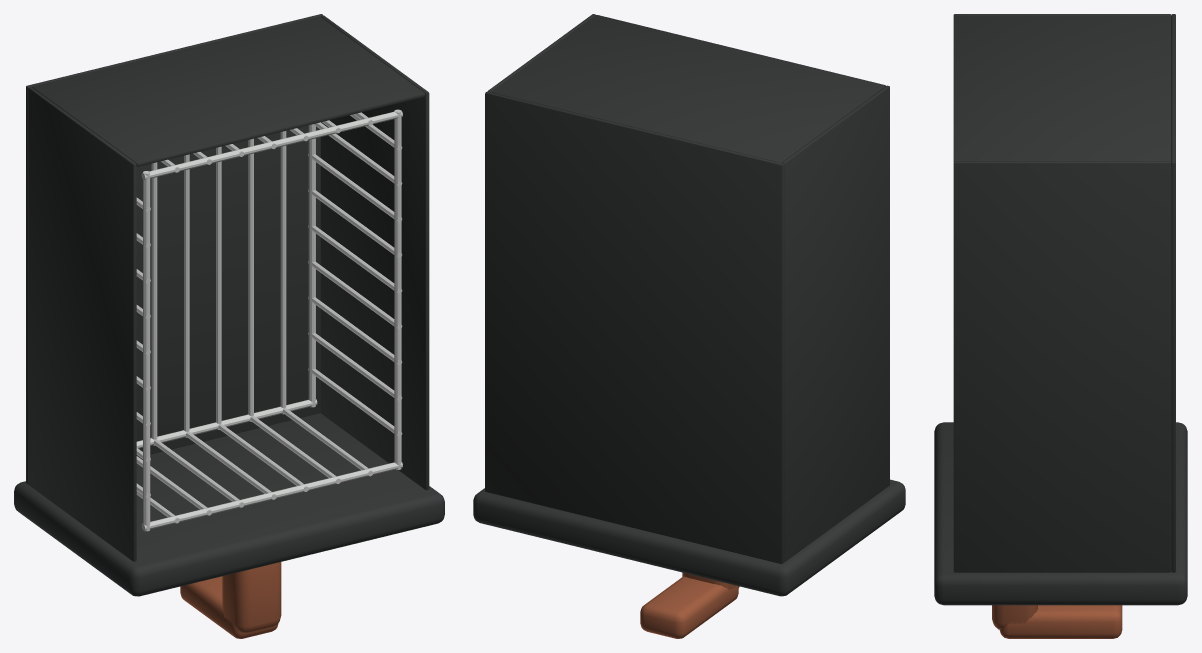
Rendered from air_fryer_basket_drawer.glb.
The picture shows the model from 3 angles, left to right: view 1: azimuth 30°, elevation 25°; view 2: azimuth 150°, elevation 25°; view 3: azimuth 270°, elevation 25°; orthographic projection. The views are drawn at different scales.
Parts seen in each view (by area): view 1: air_fryer_basket_drawer_x; view 2: air_fryer_basket_drawer_x; view 3: air_fryer_basket_drawer_x.
Part boxes in pixels (bbox=[...]): air_fryer_basket_drawer_x: bbox=[14, 14, 444, 638]; air_fryer_basket_drawer_x: bbox=[473, 14, 905, 638]; air_fryer_basket_drawer_x: bbox=[934, 14, 1187, 638].
Bounding box in the file's own units: 0.244 × 0.39 × 0.165.
